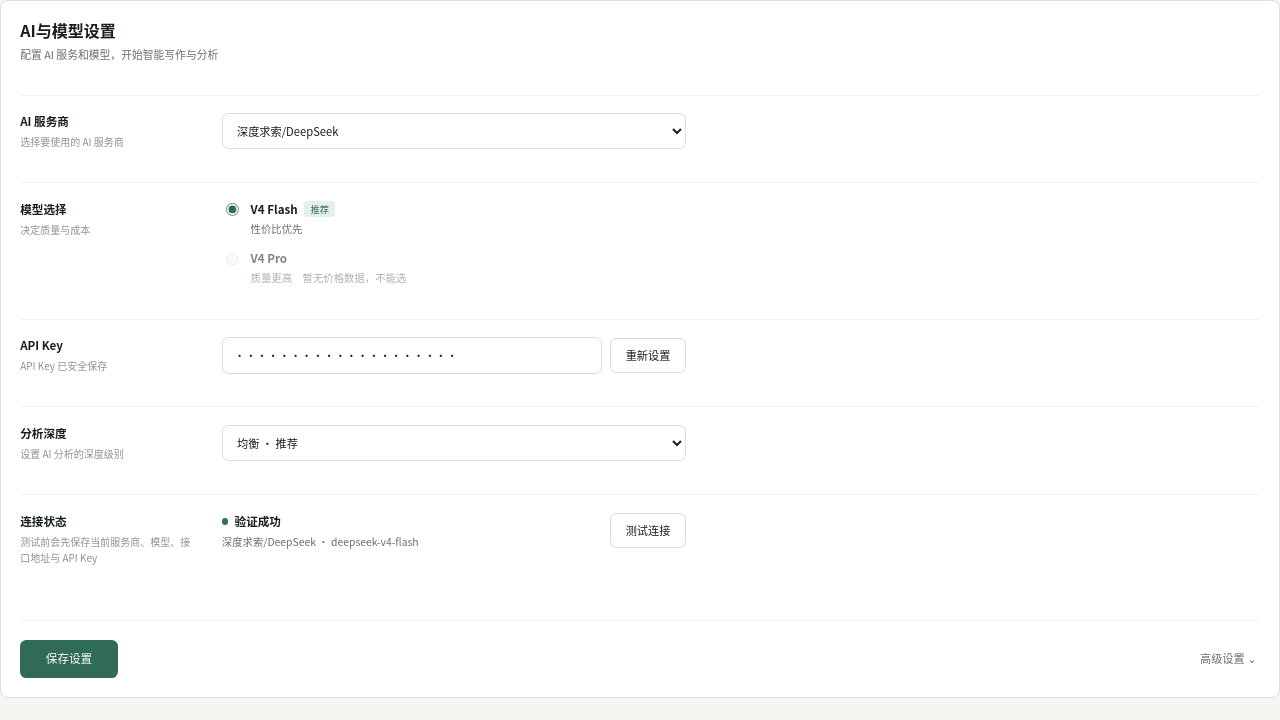
AiConnectionPanel › 配置保存失败时绝不继续测试旧配置
This screenshot has width=1280, height=720.
Expected: the element with test id "ai-connection-status" is shown, [222,513,686,550]
Expected: the radio button labelled "V4 Flash 推荐 性价比优先" is checked, [226,203,239,216]
Click the button with test id "ai-verify" at (648, 530), box [610,513,686,548]
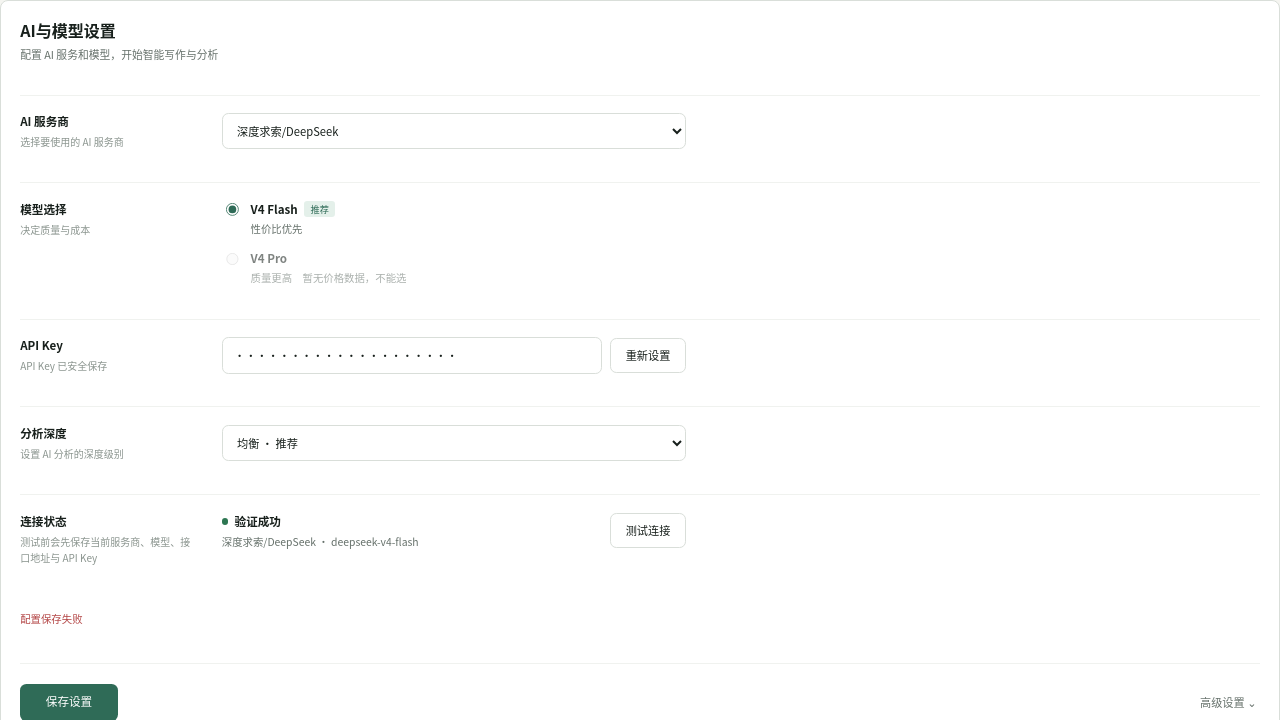
Now the message with test id "ai-message" reads "配置保存失败", box [20,611,82,626]
